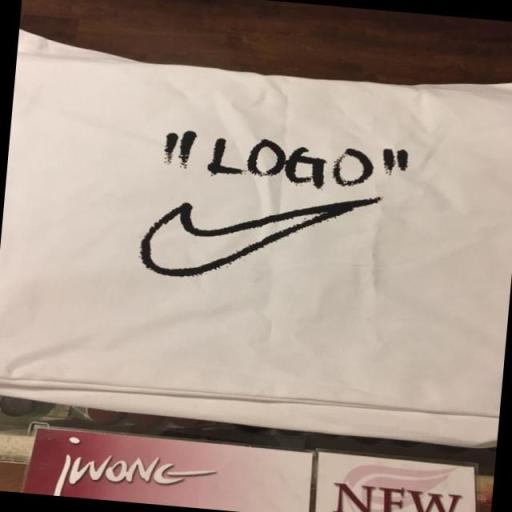Nike: (135, 180, 381, 298)
